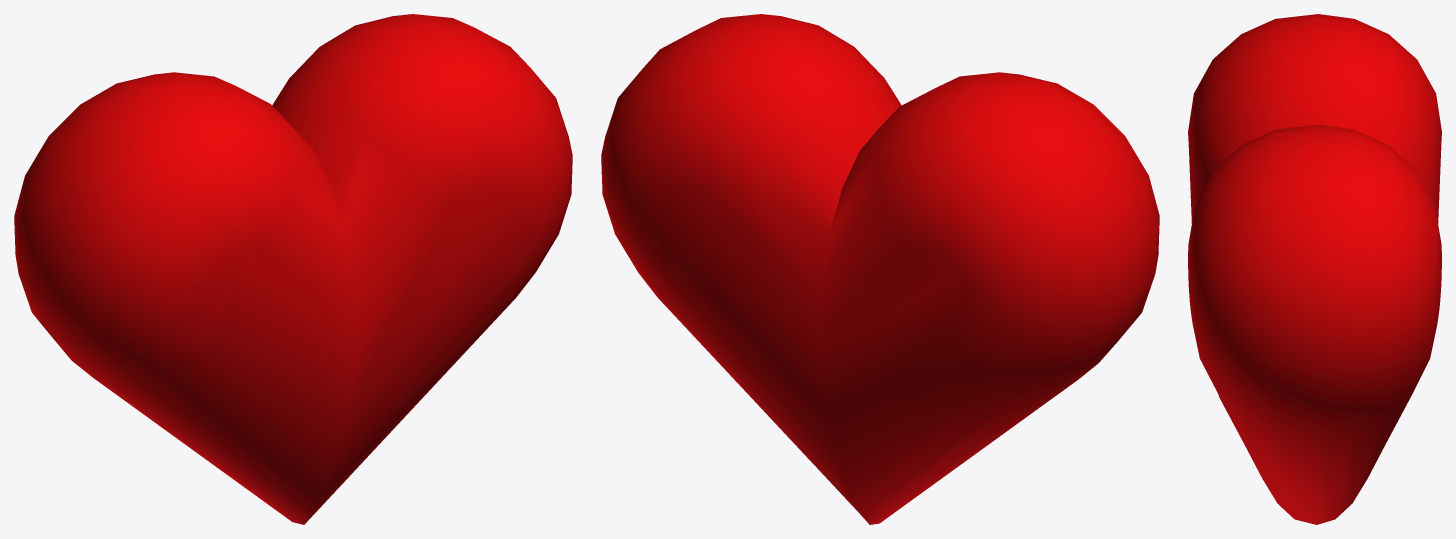
File: Heart_V1_0.fbx
3 renders of one model, left to right at view 1: azimuth 30°, elevation 25°; view 2: azimuth 150°, elevation 25°; view 3: azimuth 270°, elevation 25°, orthographic. The views are drawn at different scales.
Visible parts, largest first — view 1: Heart_V1_0; view 2: Heart_V1_0; view 3: Heart_V1_0.
Part boxes in pixels (bbox=[...]): Heart_V1_0: bbox=[14, 14, 572, 524]; Heart_V1_0: bbox=[601, 14, 1159, 524]; Heart_V1_0: bbox=[1188, 14, 1441, 524].
Bounding box in the file's own units: 0.5013 × 0.429 × 0.2243.
